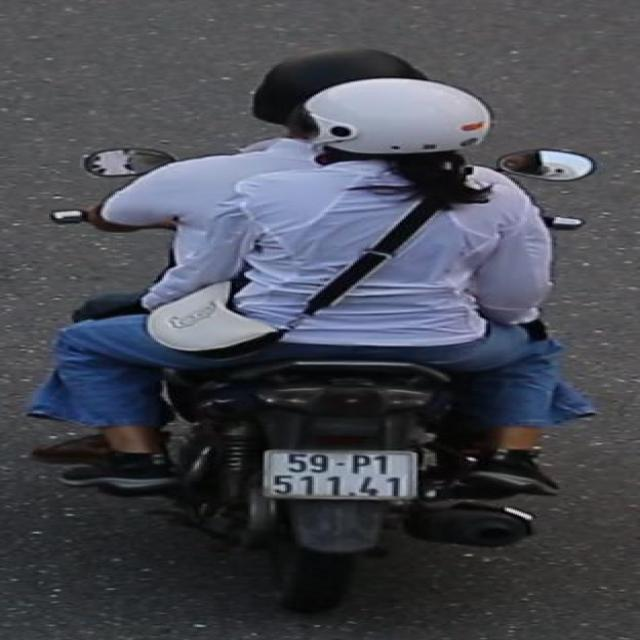LP: (253, 445, 428, 505)
helmet: (289, 75, 501, 187), (246, 41, 429, 111)
